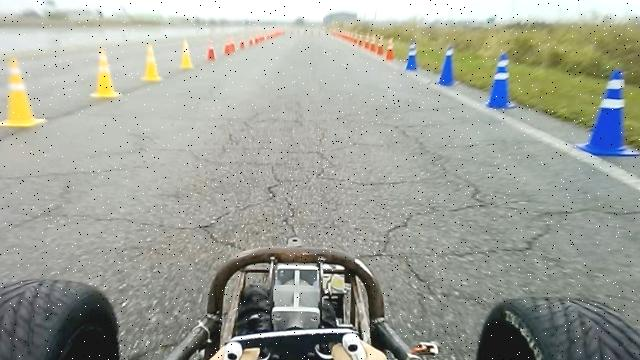blue cone: (575, 68, 640, 157), (486, 51, 518, 109), (438, 46, 458, 86), (404, 39, 418, 72), (405, 54, 418, 71)
red cone: (202, 34, 218, 63), (383, 34, 397, 63)
yellow cone: (0, 56, 48, 128), (5, 57, 33, 123), (90, 48, 122, 99), (141, 43, 163, 82), (179, 38, 194, 70)
